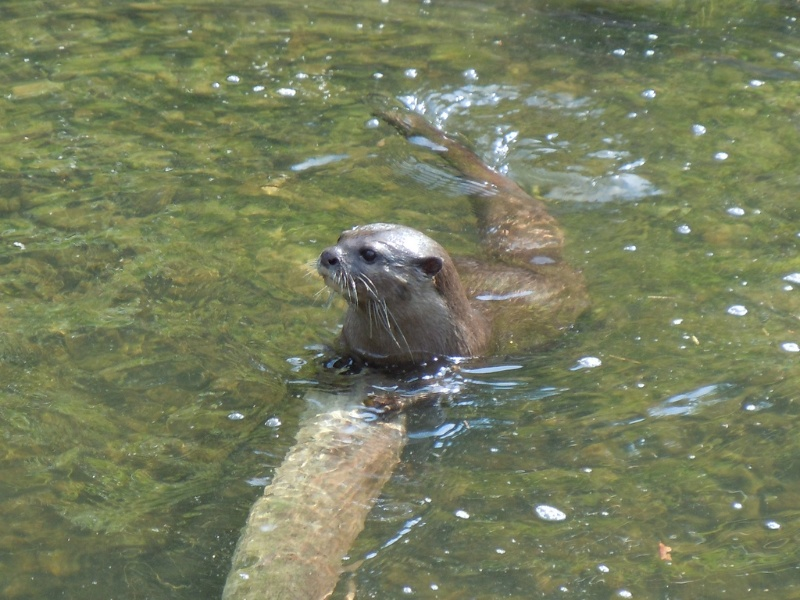minkish: (315, 74, 595, 437)
